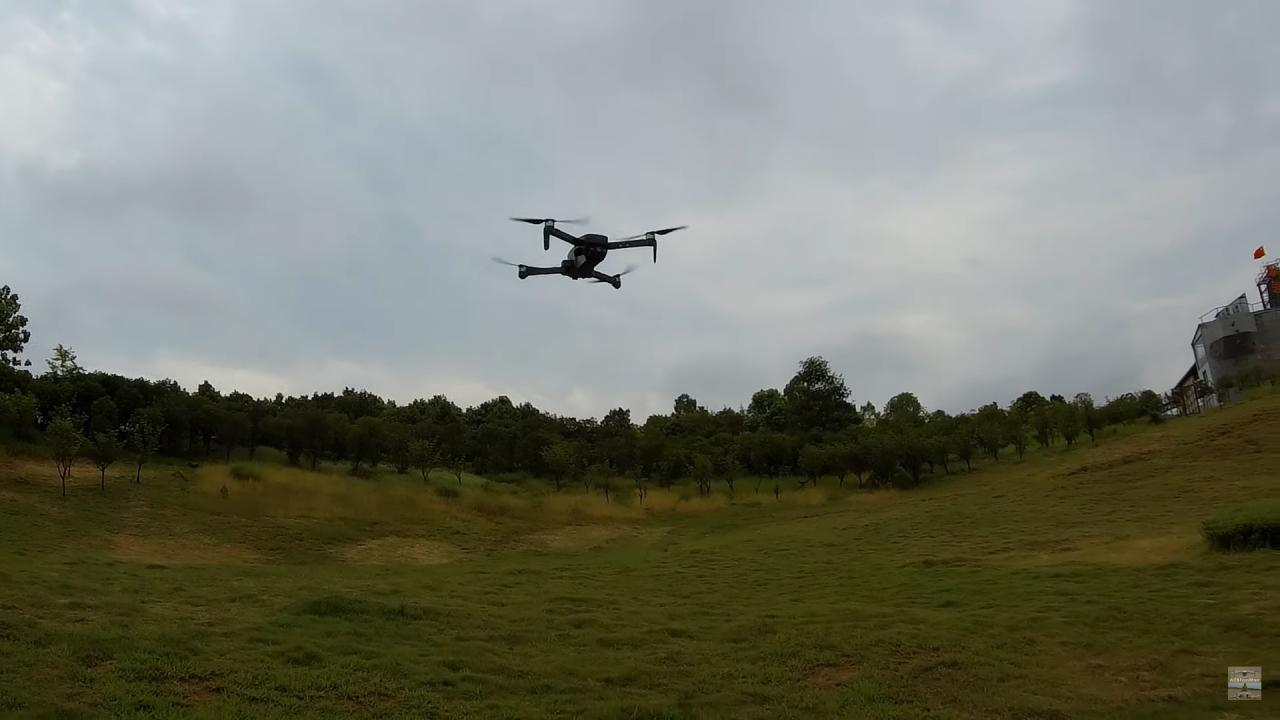Drone: (490, 208, 698, 302)
